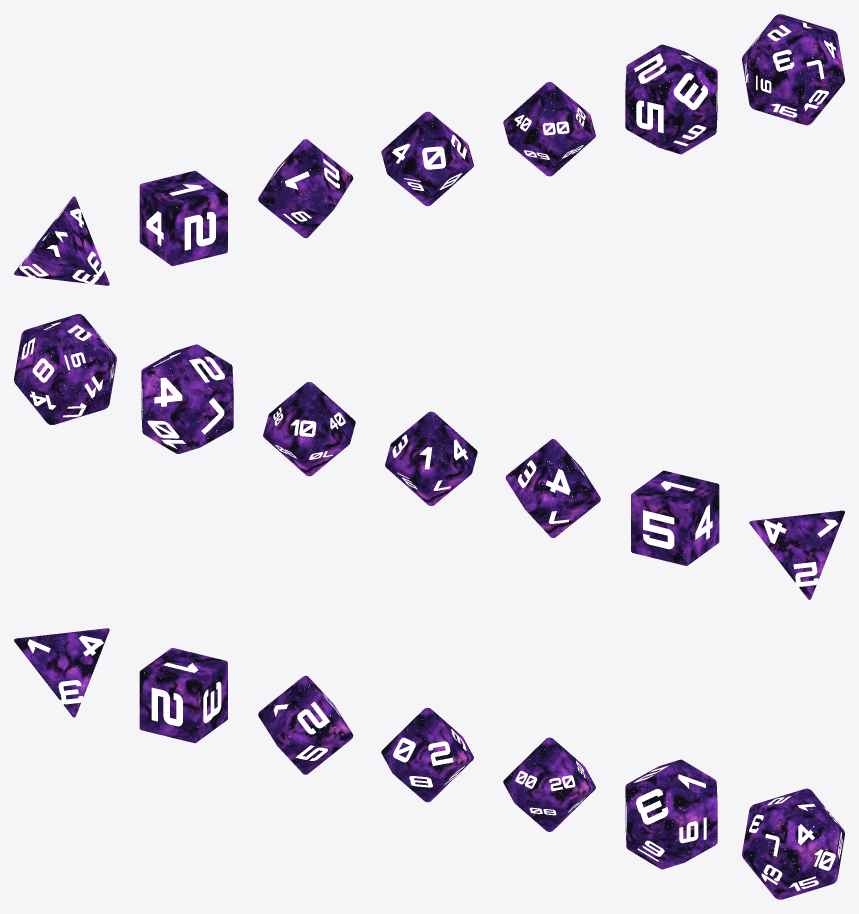
File: galaxy.glb
The picture shows the model from 3 angles, top to bottom: view 1: azimuth 30°, elevation 25°; view 2: azimuth 150°, elevation 25°; view 3: azimuth 330°, elevation 25°; orthographic projection.
Visible parts, largest first — view 1: d20, d12, d6, d100, d10, d8, d4; view 2: d20, d12, d6, d100, d10, d8, d4; view 3: d20, d12, d6, d8, d100, d10, d4.
Part boxes in pixels (x1=…): d20: x1=742, y1=14, x2=844, y2=125; d12: x1=625, y1=44, x2=717, y2=154; d6: x1=139, y1=170, x2=227, y2=266; d100: x1=503, y1=82, x2=595, y2=176; d10: x1=381, y1=111, x2=473, y2=206; d8: x1=258, y1=139, x2=353, y2=238; d4: x1=14, y1=196, x2=109, y2=285; d20: x1=14, y1=314, x2=116, y2=424; d12: x1=141, y1=344, x2=233, y2=453; d6: x1=631, y1=470, x2=719, y2=565; d100: x1=263, y1=382, x2=355, y2=476; d10: x1=385, y1=411, x2=477, y2=505; d8: x1=505, y1=439, x2=600, y2=537; d4: x1=749, y1=510, x2=844, y2=599; d20: x1=742, y1=788, x2=844, y2=899; d12: x1=625, y1=759, x2=717, y2=869; d6: x1=139, y1=647, x2=227, y2=743; d8: x1=258, y1=675, x2=353, y2=774; d100: x1=503, y1=737, x2=595, y2=831; d10: x1=381, y1=707, x2=473, y2=802; d4: x1=14, y1=628, x2=109, y2=717.
Size of the model in its own units: 21.14 by 2.47 by 2.47.
Materials: 14 (7 with a texture image).
